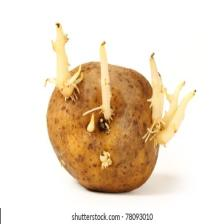Sprouted potato: (44, 37, 175, 200)
